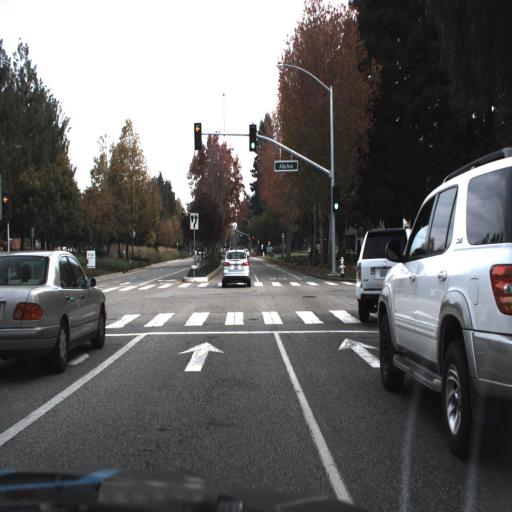car: (374, 141, 512, 462), (0, 246, 108, 375), (355, 228, 412, 322), (218, 245, 252, 291), (341, 242, 367, 269)
trafficLight-Green: (248, 122, 259, 153), (331, 184, 342, 214)
trafficLight-RedLeft: (193, 120, 203, 151), (194, 120, 202, 150)
